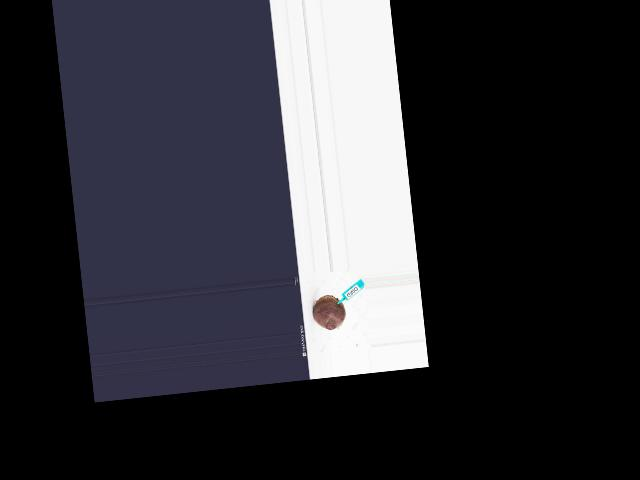beet: (310, 293, 347, 331)
